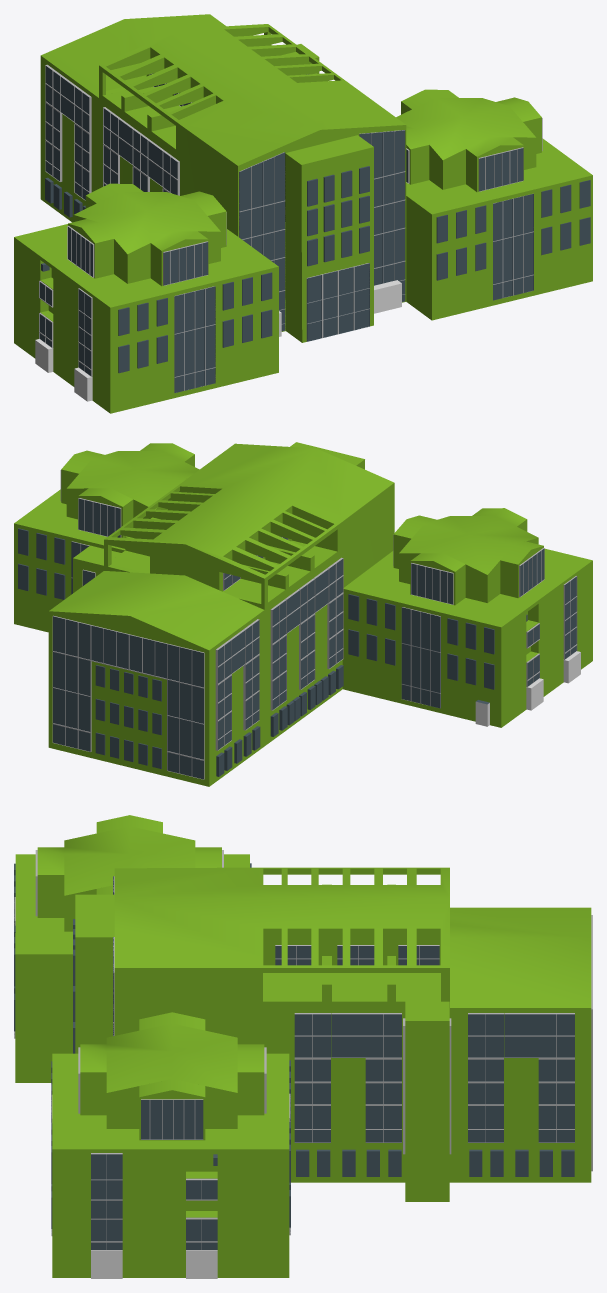
The picture shows the model from 3 angles, top to bottom: view 1: azimuth 30°, elevation 25°; view 2: azimuth 150°, elevation 25°; view 3: azimuth 270°, elevation 25°; orthographic projection. The views are drawn at different scales.
Visible parts, largest first — view 1: A21, Entrance_2; view 2: A21, Entrance_Left.2, Entrance_Left; view 3: A21, Entrance_Right, Entrance_Right.2.
Part boxes in pixels (box(x1,y1,x2,y2)): A21: box(14, 14, 592, 413); Entrance_2: box(374, 280, 401, 313); A21: box(14, 442, 592, 786); Entrance_Left.2: box(526, 678, 543, 710); Entrance_Left: box(563, 651, 580, 683); A21: box(14, 815, 592, 1277); Entrance_Right: box(91, 1250, 122, 1278); Entrance_Right.2: box(186, 1250, 217, 1278).
Size of the model in its own units: 44.81 by 16.35 by 36.67.
